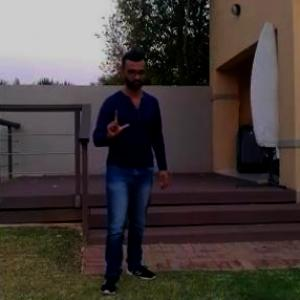land_hand: (102, 102, 131, 142)
